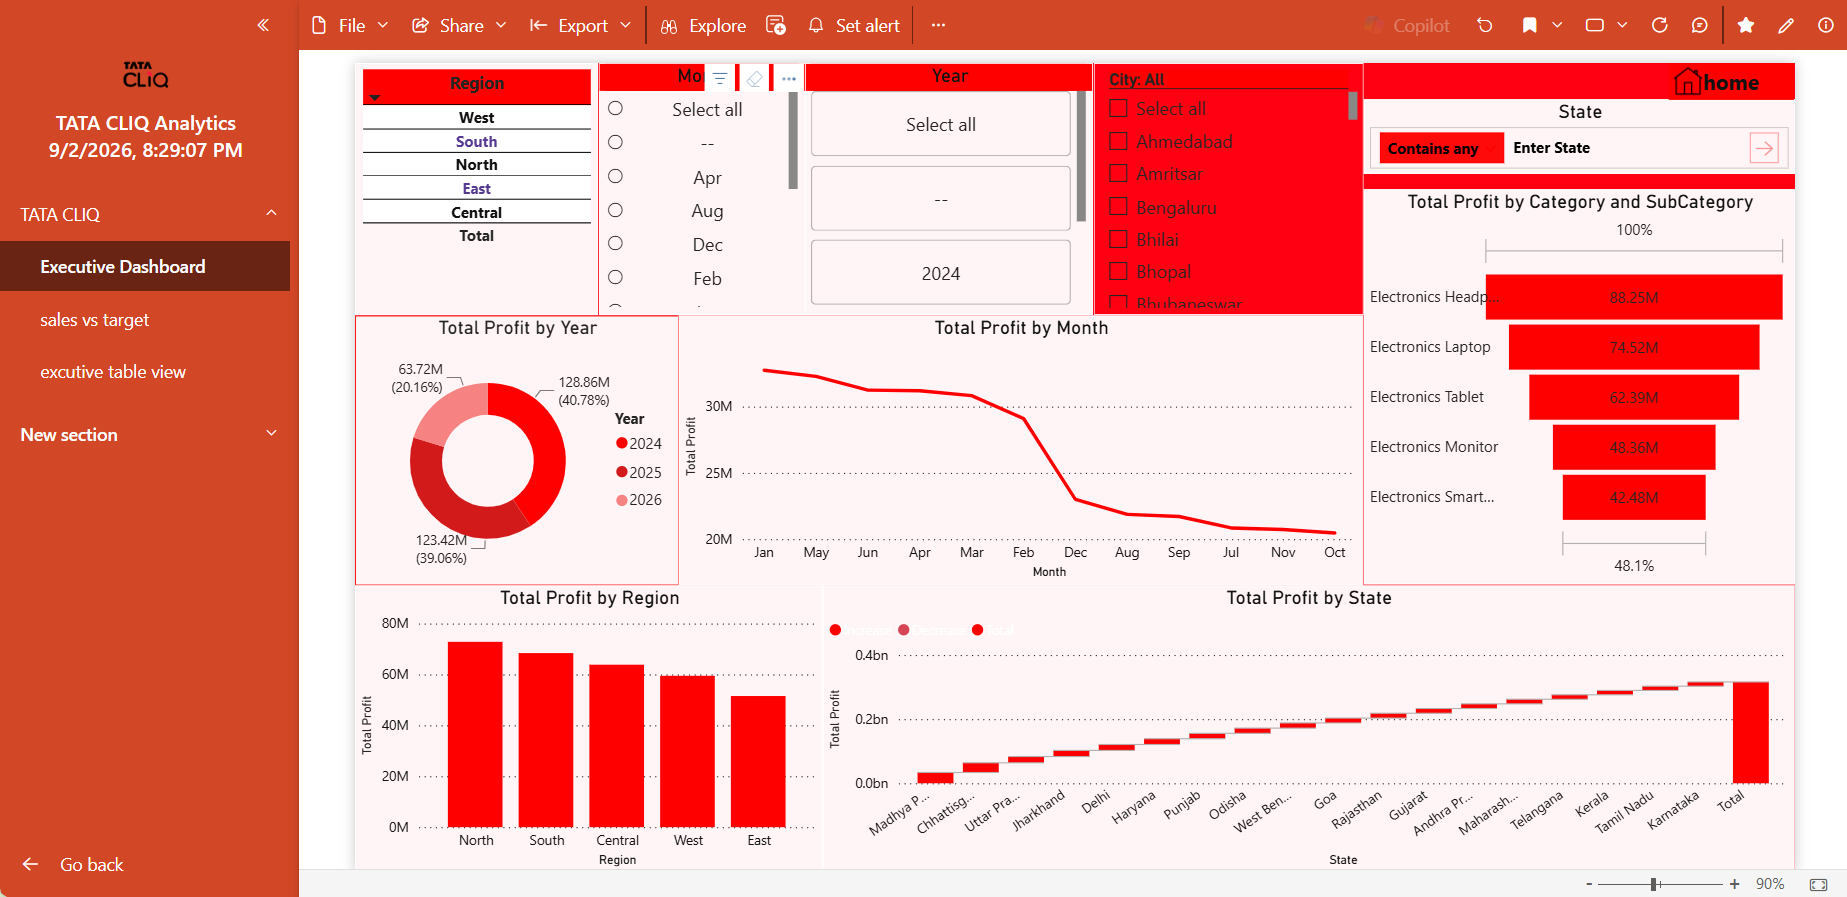

The dashboard page shown, as its layout file describes it:
{"tool":"powerbi","page":{"name":"Executive Dashboard","canvas":[1280,720],"ordinal":0},"visuals":[{"type":"group","id":"g1","title":"filter","box":[0,0,1280,720],"z":0,"group":"g2"},{"type":"actionButton","box":[496.2,592.5,47.5,47.5],"z":0,"group":"g3"},{"type":"cardVisual","fields":{"Data":["FactSales.Average Delivery Days","FactSales.Average Order Value","FactSales.Average Selling Price","FactSales.Return Rate %","FactSales.Returned Orders","FactSales.Returned Quantity","FactSales.VIP Customers"]},"box":[64,0,1216,224],"z":1000,"group":"g3"},{"type":"cardVisual","fields":{"Data":["FactSales.Customer Count","FactSales.Delivered Orders","FactSales.High Value Customers","FactSales.Late Deliveries","FactSales.Late Delivery %","FactSales.Profit Margin %","FactSales.YTD Sales","FactSales.Product Sales Rank"]},"box":[64,224,1216,224],"z":2000,"group":"g3"},{"type":"group","id":"g2","title":"Total Visual","box":[0,0,1280,720],"z":3000},{"type":"group","id":"g3","title":"Total visual","box":[0,0,1280,720],"z":3000,"group":"g1"},{"type":"cardVisual","fields":{"Data":["FactSales.Sales Growth %","FactSales.Sales Growth","FactSales.Total Customers","FactSales.Total Cost","FactSales.Total Orders","FactSales.Total Profit","FactSales.Total Profit","FactSales.Total Quantity","FactSales.Total Returns","FactSales.Total Sales"]},"box":[64,448,1216,272],"z":3000,"group":"g3"},{"type":"actionButton","box":[0,408,64,88],"z":4000,"group":"g3"},{"type":"actionButton","box":[0,88,64,168],"z":5000,"group":"g3"},{"type":"actionButton","box":[0,0,64,112],"z":6000,"group":"g3"},{"type":"actionButton","box":[0,200,64,104],"z":7000,"group":"g3"},{"type":"actionButton","box":[0,264,64,144],"z":8000,"group":"g3"}]}

Visuals, with their boxes on the page's 1280x720 design canvas (x1, y1, x2, y2). These are canvas units, not pixel positions in the 1847x897 screenshot, which may show the page scaled, cropped or inside an application window:
"filter" group: [left=0, top=0, right=1280, bottom=720]
actionButton: [left=496, top=592, right=544, bottom=640]
cardVisual - FactSales.Average Delivery Days x FactSales.Average Order Value: [left=64, top=0, right=1280, bottom=224]
cardVisual - FactSales.Customer Count x FactSales.Delivered Orders: [left=64, top=224, right=1280, bottom=448]
"Total Visual" group: [left=0, top=0, right=1280, bottom=720]
"Total visual" group: [left=0, top=0, right=1280, bottom=720]
cardVisual - FactSales.Sales Growth % x FactSales.Sales Growth: [left=64, top=448, right=1280, bottom=720]
actionButton: [left=0, top=408, right=64, bottom=496]
actionButton: [left=0, top=88, right=64, bottom=256]
actionButton: [left=0, top=0, right=64, bottom=112]
actionButton: [left=0, top=200, right=64, bottom=304]
actionButton: [left=0, top=264, right=64, bottom=408]
